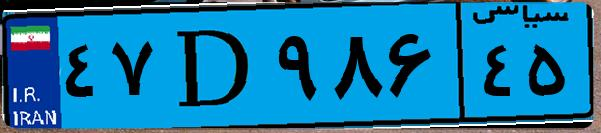4: (57, 26, 110, 100), (475, 38, 525, 113)
5: (525, 38, 570, 115)
6: (385, 28, 445, 110)
7: (110, 28, 158, 98)
8: (330, 28, 385, 110)
9: (270, 28, 330, 110)
D: (158, 12, 270, 120)
